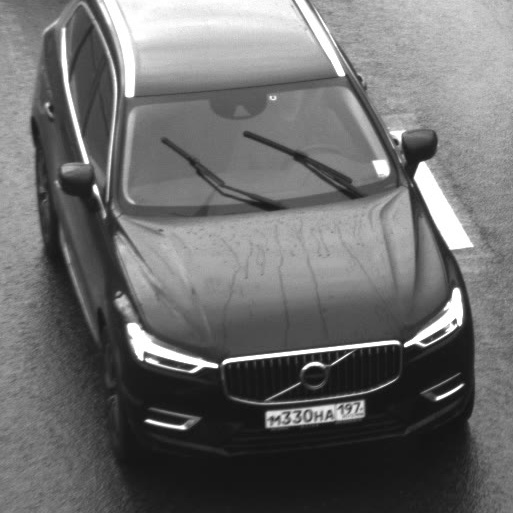plate: (254, 387, 373, 434)
